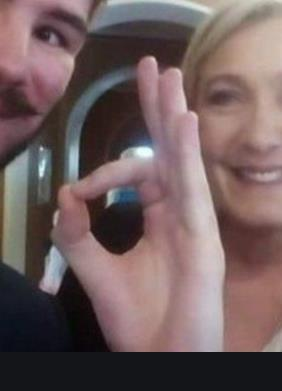left: (48, 55, 223, 348)
